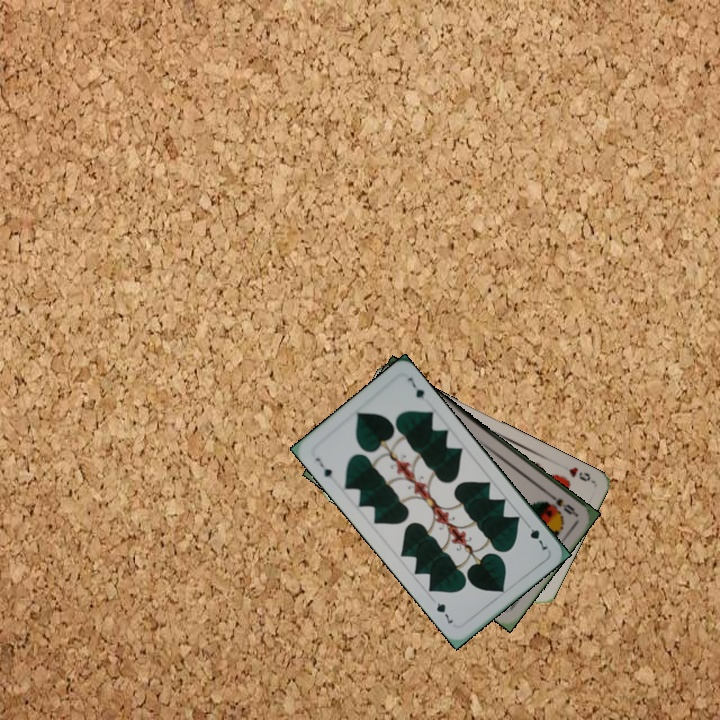G7: (521, 518, 552, 552), (311, 454, 335, 481)
H9: (564, 463, 593, 484)
SO: (544, 488, 579, 518)
